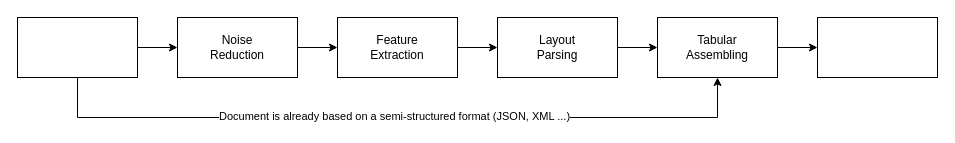
The diagram is 955 pixels wide and 143 high, and some of its shapes have lost their labels. The box of each missing label's shape, as (x1, y1, x2, y2) in pixels:
Load b y Chunks: (16, 16, 138, 78)
Tagging: (816, 16, 938, 78)
